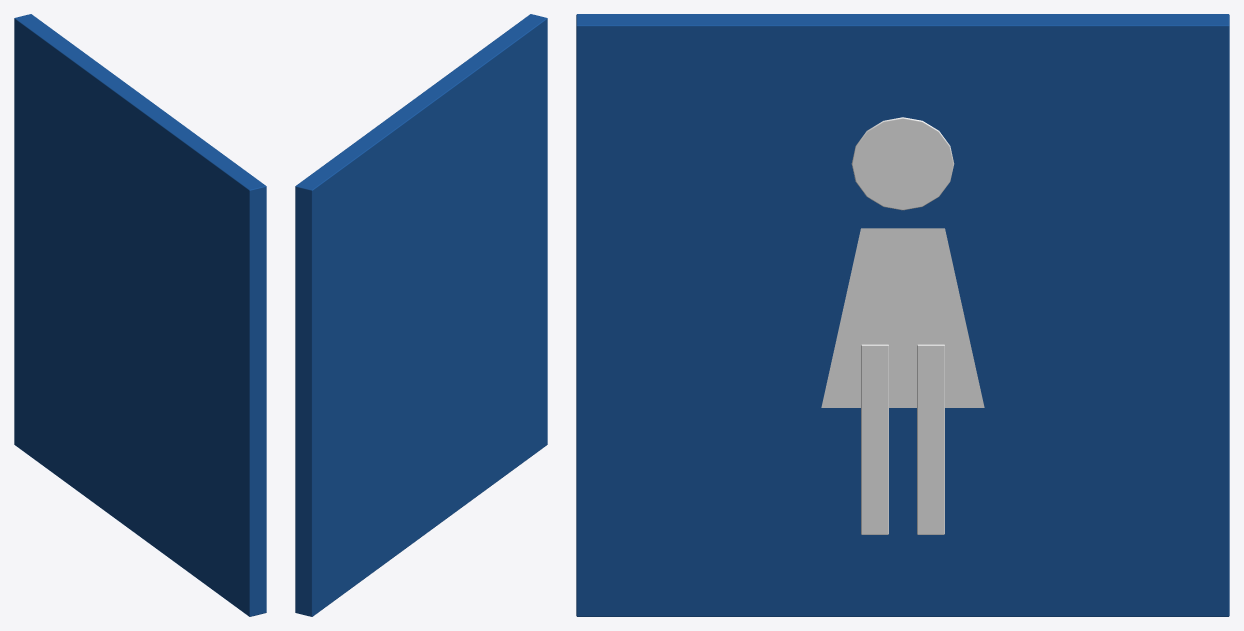
File: 01_nivel_1_general.glb
The picture shows the model from 3 angles, left to right: view 1: azimuth 30°, elevation 25°; view 2: azimuth 150°, elevation 25°; view 3: azimuth 270°, elevation 25°; orthographic projection. The views are drawn at different scales.
Parts seen in each view (by area): view 1: pictograma_mujeres; view 2: pictograma_mujeres; view 3: pictograma_mujeres.
Boxes of the visible parts, box(x1,y1,x2,y2) form: pictograma_mujeres: box(14, 14, 266, 616); pictograma_mujeres: box(295, 14, 547, 616); pictograma_mujeres: box(576, 14, 1229, 616).
Size of the model in its own units: 0.0145 by 0.28 by 0.28.
